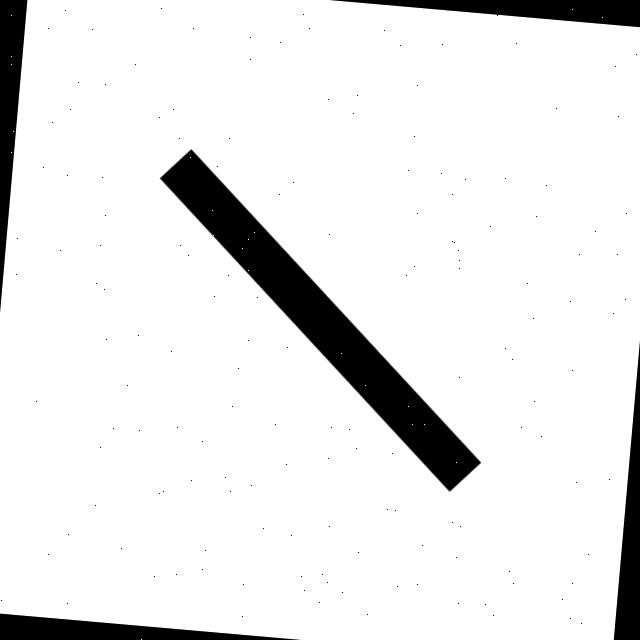line: (160, 149, 480, 491)
